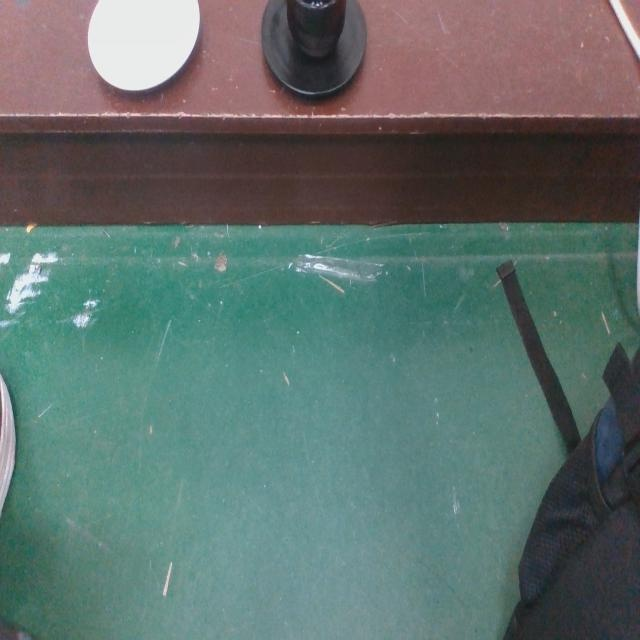black: (260, 0, 370, 106)
white: (86, 0, 202, 95)
